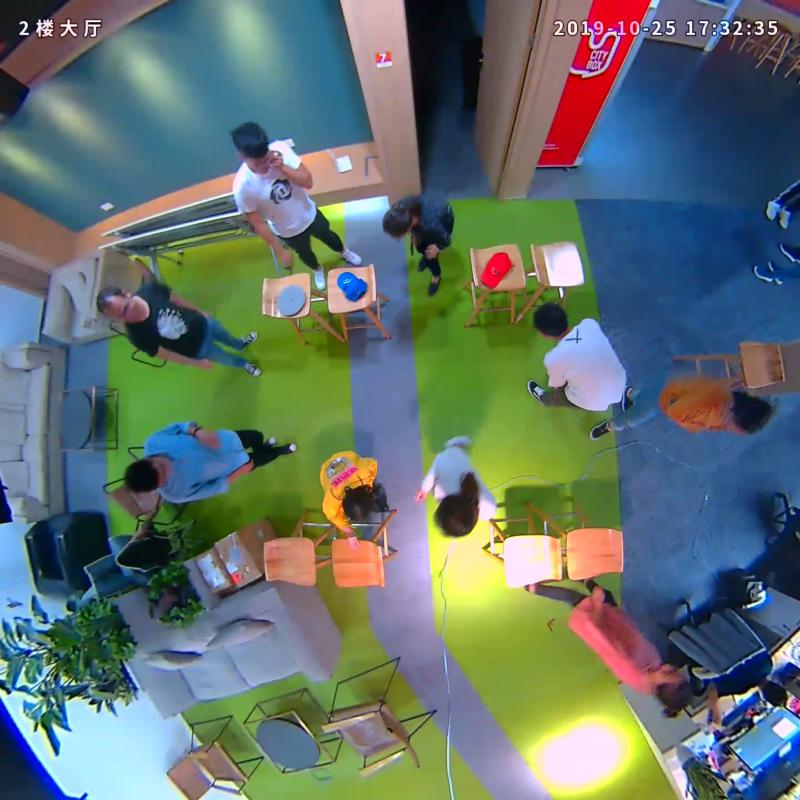head: (719, 387, 782, 442), (224, 119, 279, 176), (650, 663, 699, 723), (429, 493, 488, 542), (89, 282, 154, 324), (118, 454, 176, 501), (527, 300, 576, 342), (337, 483, 381, 526), (377, 201, 420, 243)
